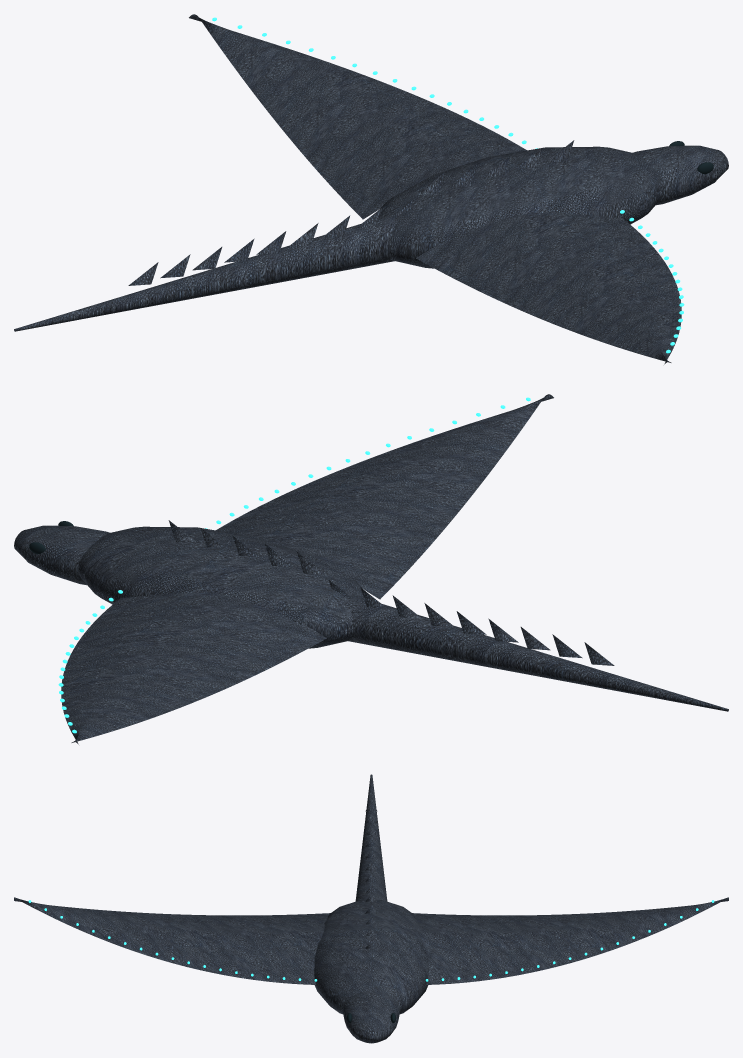
File: abyssal_guardian.glb
3 renders of one model, top to bottom at view 1: azimuth 30°, elevation 25°; view 2: azimuth 150°, elevation 25°; view 3: azimuth 270°, elevation 25°, orthographic. The views are drawn at different scales.
Visible parts, largest first — view 1: Organic pectoral wing, Organic pectoral wing.001, Guardian muscular body, Long tapered guardian tail, Guardian tapered head; view 2: Organic pectoral wing.001, Organic pectoral wing, Guardian muscular body, Long tapered guardian tail, Guardian tapered head; view 3: Organic pectoral wing, Organic pectoral wing.001, Guardian muscular body, Guardian tapered head, Long tapered guardian tail.
Boxes of the visible parts, x1=… form: Organic pectoral wing: x1=189, y1=14, x2=526, y2=219; Organic pectoral wing.001: x1=416, y1=213, x2=681, y2=364; Guardian muscular body: x1=379, y1=146, x2=664, y2=268; Long tapered guardian tail: x1=14, y1=215, x2=397, y2=331; Guardian tapered head: x1=633, y1=145, x2=728, y2=205; Organic pectoral wing.001: x1=216, y1=394, x2=553, y2=599; Organic pectoral wing: x1=61, y1=593, x2=326, y2=744; Guardian muscular body: x1=78, y1=526, x2=363, y2=648; Long tapered guardian tail: x1=345, y1=595, x2=728, y2=711; Guardian tapered head: x1=14, y1=525, x2=109, y2=585; Organic pectoral wing: x1=412, y1=897, x2=728, y2=984; Organic pectoral wing.001: x1=14, y1=897, x2=330, y2=984; Guardian muscular body: x1=314, y1=900, x2=428, y2=1014; Guardian tapered head: x1=342, y1=990, x2=400, y2=1043; Long tapered guardian tail: x1=355, y1=774, x2=387, y2=901.
Bounding box in the file's own units: 15.6 × 1.98 × 18.
3 materials, 1 textured.
